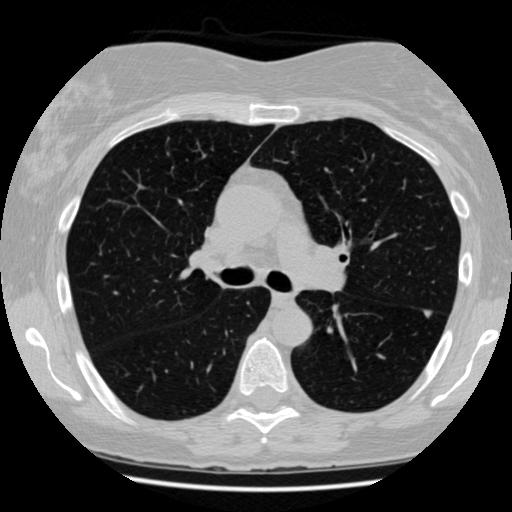nodule: (421, 307, 434, 320)
